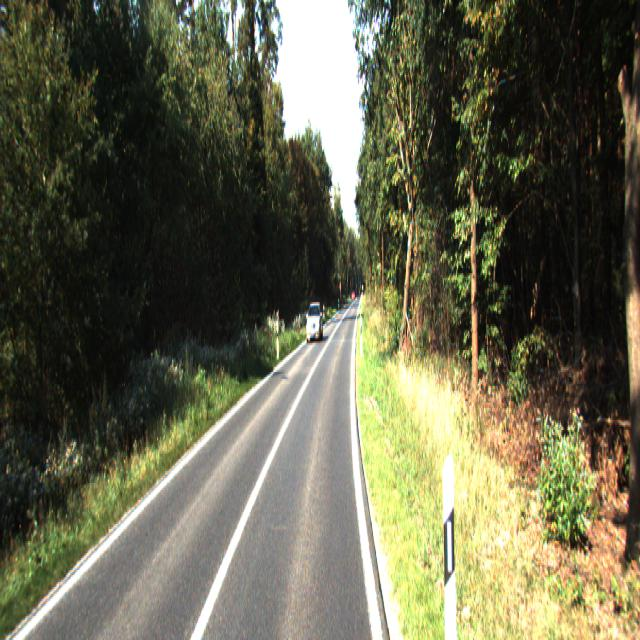Car: (305, 302, 324, 343)
